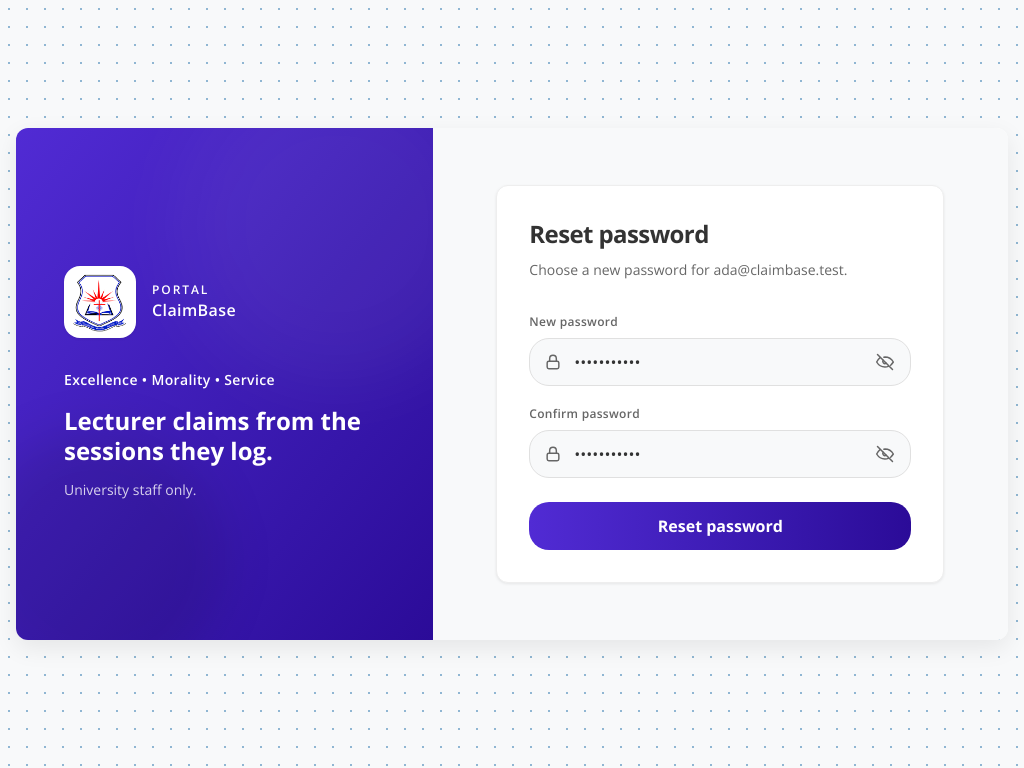
Test: ResetPasswordComponent › offers a new link when the token is rejected
Click the submit button.
click(720, 526)  # box [529,502,911,550]
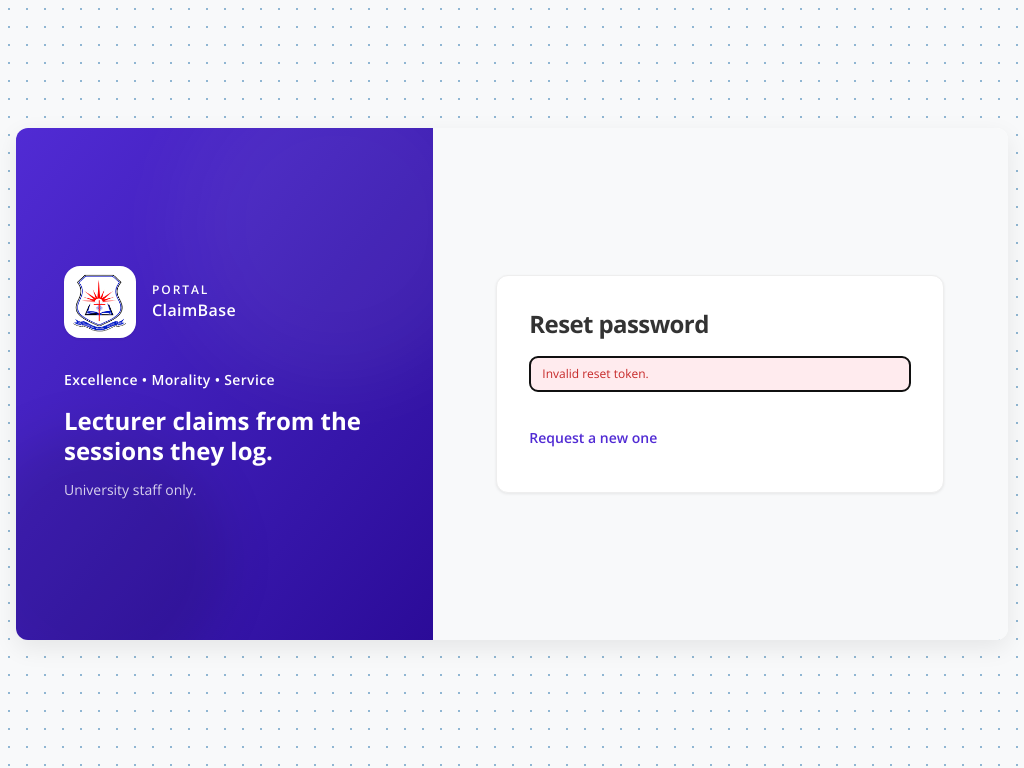
expect the message "Invalid reset token." is shown: met, box [529,356,911,392]
expect the link to "/login/forgot-password" reads "Request a new one": met, box [529,428,657,447]
expect the password field is gone: met
